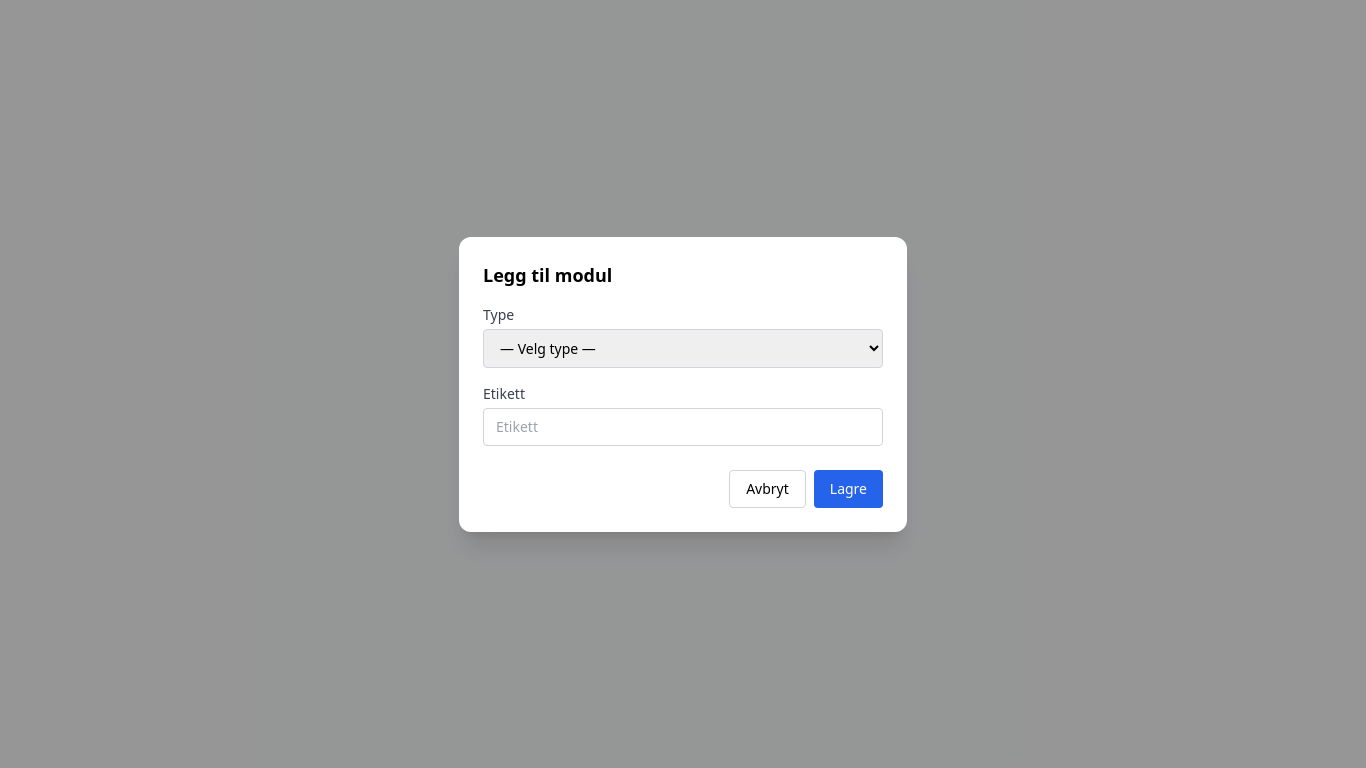
Test: viser ampere-felt for automatsikring
Select "Automatsikring" in the dropdown labelled "Type" at (683, 348), box [483,328,883,368]
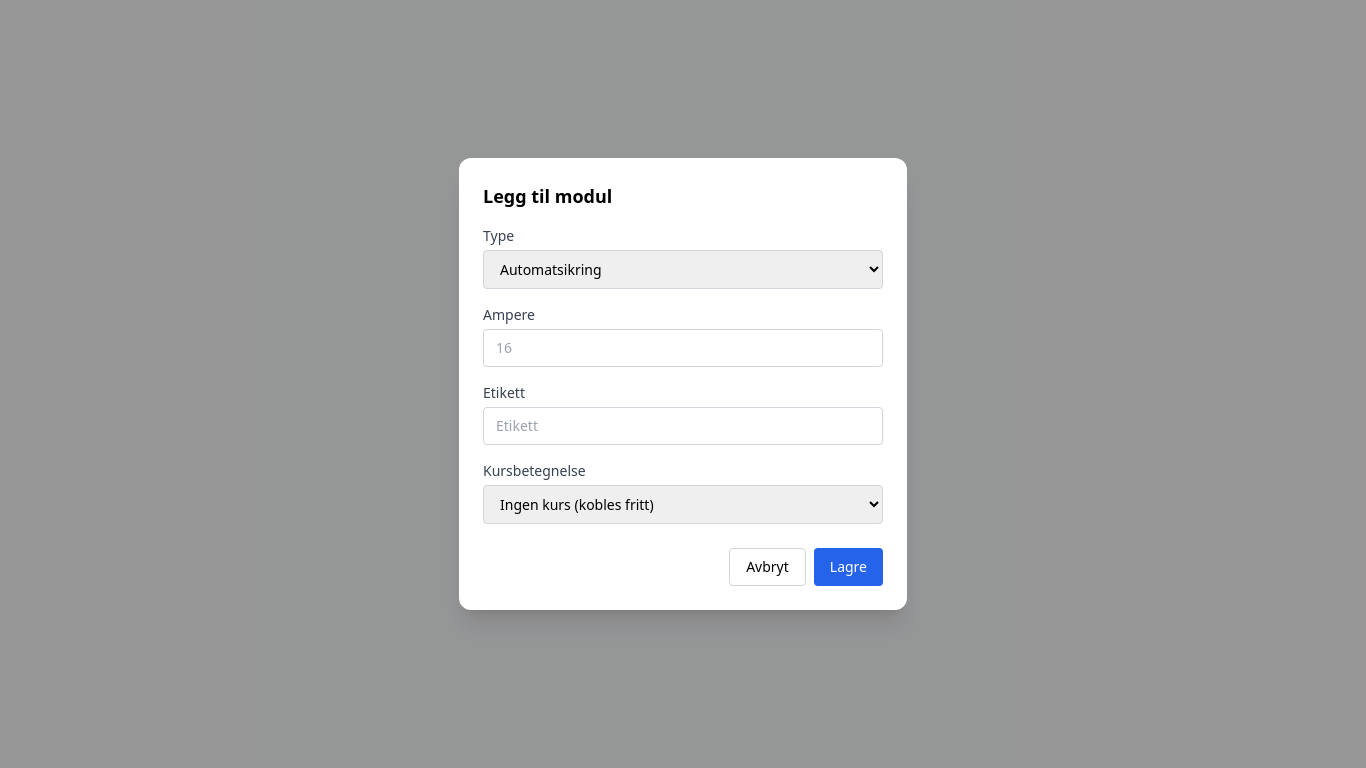
Result: the number field labelled "Ampere" is shown at [483,329,883,367]
